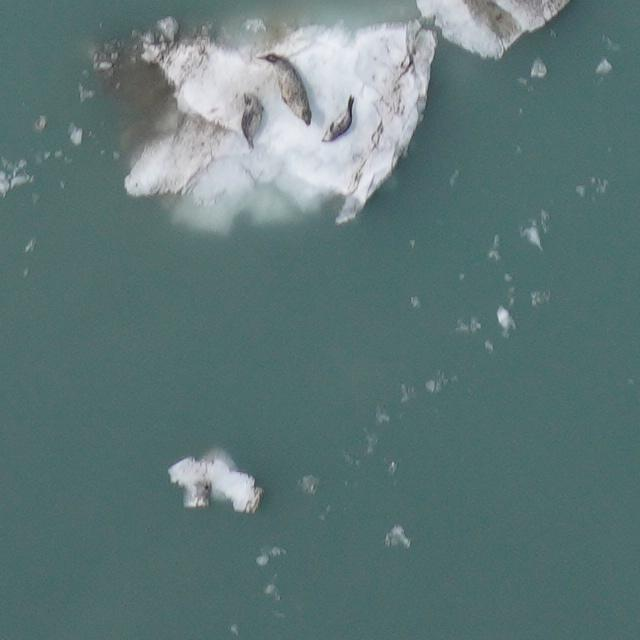seal: (260, 47, 315, 131), (320, 94, 367, 150), (240, 93, 263, 148)
